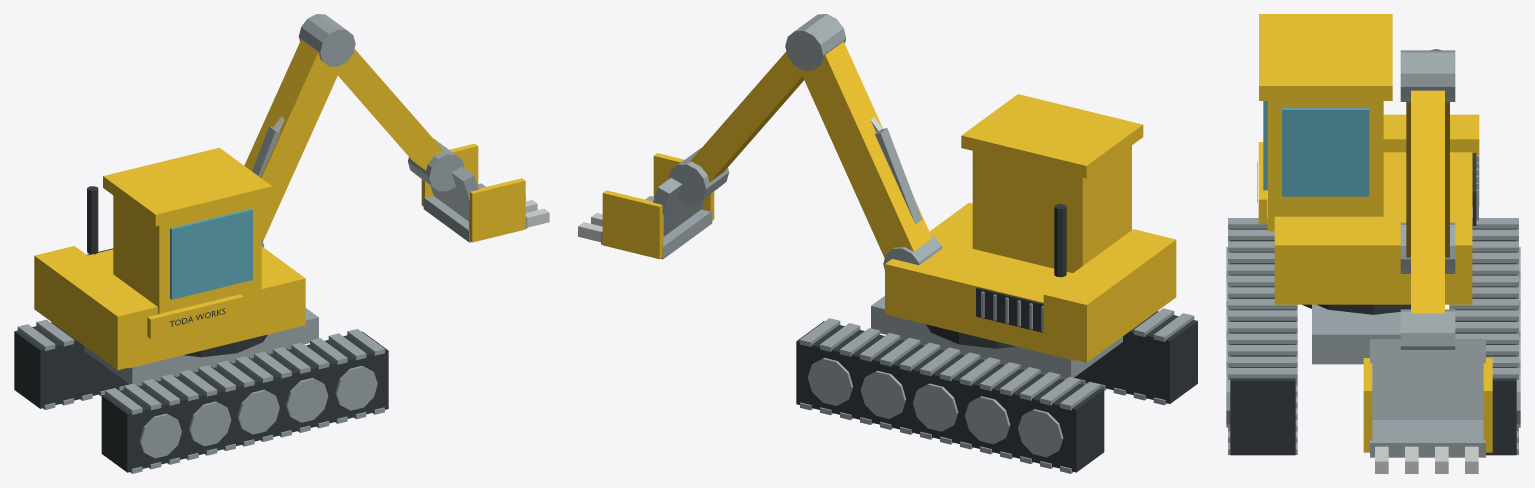
The model's file is TR3_Excavator_Tracked.glb.
3 views of the same model, side by side, from view 1: azimuth 30°, elevation 25°; view 2: azimuth 150°, elevation 25°; view 3: azimuth 270°, elevation 25° (orthographic). The views are drawn at different scales.
Visible parts, largest first — view 1: TR3_Excavator_Tracked; view 2: TR3_Excavator_Tracked; view 3: TR3_Excavator_Tracked.
Part boxes in pixels (left/top/right/bottom): TR3_Excavator_Tracked: left=14, top=14, right=549, bottom=473; TR3_Excavator_Tracked: left=578, top=14, right=1197, bottom=473; TR3_Excavator_Tracked: left=1226, top=14, right=1520, bottom=473.
Bounding box in the file's own units: 5.14 × 3.36 × 2.15.
